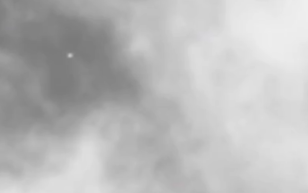Target: (68, 54, 73, 58)
